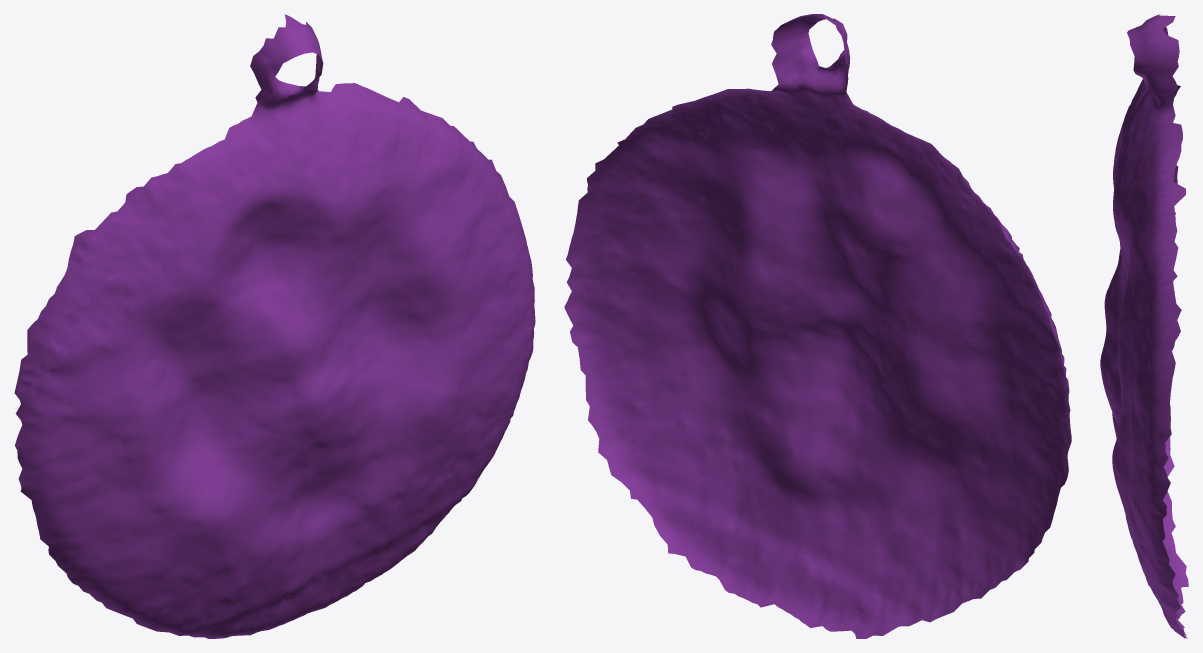
Rendered from real_sphere_SFHC.glb.
The picture shows the model from 3 angles, left to right: view 1: azimuth 30°, elevation 25°; view 2: azimuth 150°, elevation 25°; view 3: azimuth 270°, elevation 25°; orthographic projection. The views are drawn at different scales.
Visible parts, largest first — view 1: result-20260104_142651-sphere-baseline; view 2: result-20260104_142651-sphere-baseline; view 3: result-20260104_142651-sphere-baseline.
Boxes of the visible parts, x1=… form: result-20260104_142651-sphere-baseline: x1=14, y1=14, x2=535, y2=638; result-20260104_142651-sphere-baseline: x1=564, y1=14, x2=1071, y2=638; result-20260104_142651-sphere-baseline: x1=1100, y1=14, x2=1188, y2=638.
Bounding box in the file's own units: 0.9049 × 1.03 × 0.1372.
